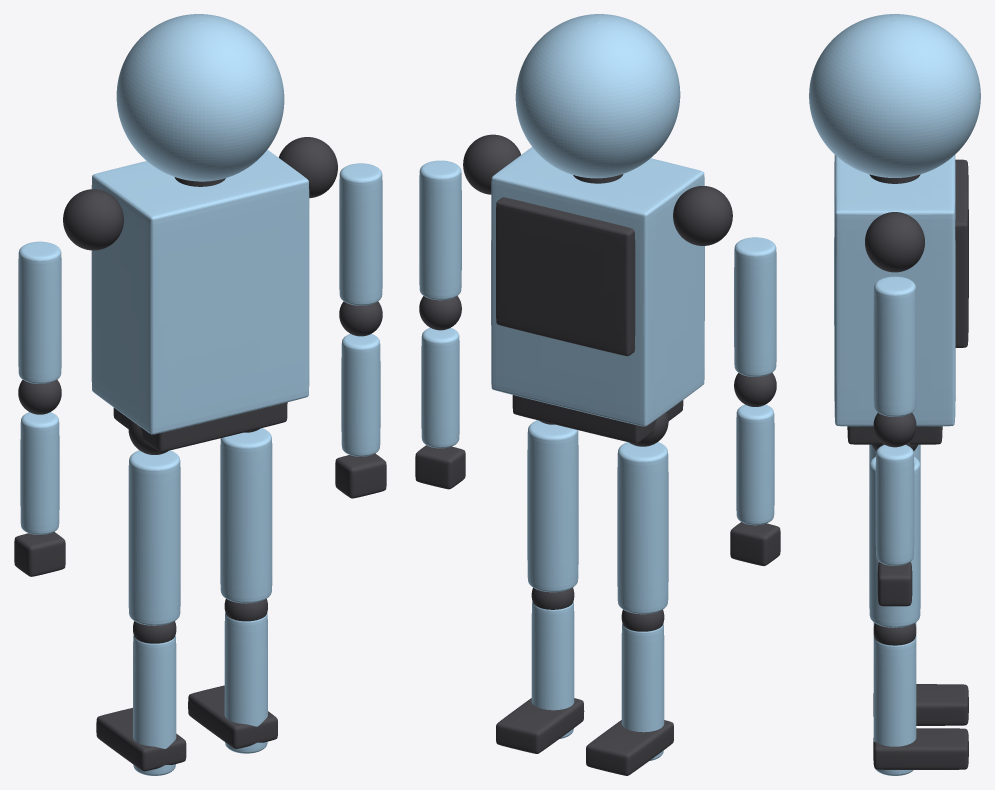
The model's file is Dummy_Mannequin_Blue_Hi.fbx.
3 renders of one model, left to right at view 1: azimuth 30°, elevation 25°; view 2: azimuth 150°, elevation 25°; view 3: azimuth 270°, elevation 25°, orthographic.
Visible parts, largest first — view 1: Torso, Head, UpperLeg_L, UpperLeg_R, UpperArm_L, UpperArm_R, LowerLeg_R, LowerLeg_L, LowerArm_L, LowerArm_R, Pelvis, Shoulder_L (+9 smaller); view 2: Torso, Head, ChestPlate, UpperLeg_L, UpperLeg_R, UpperArm_R, UpperArm_L, LowerArm_R, LowerArm_L, LowerLeg_L, LowerLeg_R, Foot_L (+10 smaller); view 3: Head, Torso, UpperArm_R, LowerLeg_R, LowerArm_R, Foot_R, UpperLeg_R, Shoulder_R, ChestPlate, Foot_L, Hand_R, Elbow_R (+2 smaller).
Part boxes in pixels (box(x1,y1,x2,y2)): Torso: box(91, 149, 309, 434); Head: box(116, 14, 284, 181); UpperLeg_L: box(128, 450, 180, 625); UpperLeg_R: box(220, 428, 272, 603); UpperArm_L: box(18, 241, 61, 383); UpperArm_R: box(339, 163, 382, 305); LowerLeg_R: box(224, 613, 267, 753); LowerLeg_L: box(133, 635, 176, 775); LowerArm_L: box(20, 412, 59, 534); LowerArm_R: box(341, 334, 380, 456); Pelvis: box(113, 402, 287, 451); Shoulder_L: box(63, 189, 123, 250); Torso: box(491, 147, 704, 426); Head: box(515, 14, 680, 178); ChestPlate: box(496, 197, 635, 356); UpperLeg_L: box(617, 442, 668, 614); UpperLeg_R: box(527, 420, 578, 592); UpperArm_R: box(419, 160, 461, 300); UpperArm_L: box(734, 237, 776, 376); LowerArm_R: box(421, 327, 459, 448); LowerArm_L: box(736, 404, 774, 525); LowerLeg_L: box(621, 623, 664, 760); LowerLeg_R: box(531, 601, 574, 738); Foot_L: box(586, 720, 673, 775); Head: box(809, 14, 980, 177); Torso: box(834, 155, 955, 426); UpperArm_R: box(873, 276, 916, 416); LowerLeg_R: box(873, 637, 916, 775); LowerArm_R: box(875, 444, 914, 565); Foot_R: box(873, 728, 968, 769); UpperLeg_R: box(869, 456, 920, 627); Shoulder_R: box(865, 212, 924, 272); ChestPlate: box(955, 159, 968, 347); Foot_L: box(873, 684, 968, 725); Hand_R: box(877, 562, 912, 606); Elbow_R: box(873, 413, 916, 447).
Size of the model in its own units: 0.9397 by 1.84 by 0.3949.
